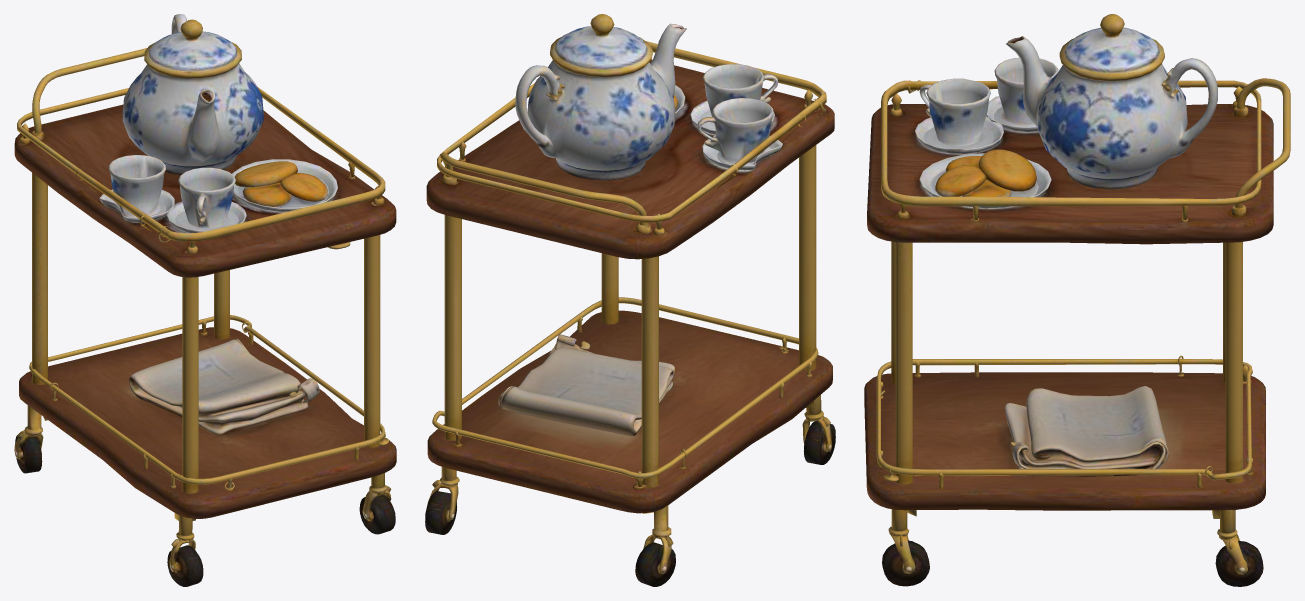
The model's file is trolley.glb.
The picture shows the model from 3 angles, left to right: view 1: azimuth 30°, elevation 25°; view 2: azimuth 150°, elevation 25°; view 3: azimuth 270°, elevation 25°; orthographic projection. The views are drawn at different scales.
Parts seen in each view (by area): view 1: tripo_node_a984bce3-706f-455e-8965-71741e2b8324; view 2: tripo_node_a984bce3-706f-455e-8965-71741e2b8324; view 3: tripo_node_a984bce3-706f-455e-8965-71741e2b8324.
Part boxes in pixels (box(x1,y1,x2,y2)): tripo_node_a984bce3-706f-455e-8965-71741e2b8324: box(14, 14, 396, 586); tripo_node_a984bce3-706f-455e-8965-71741e2b8324: box(425, 14, 835, 586); tripo_node_a984bce3-706f-455e-8965-71741e2b8324: box(864, 14, 1290, 586).
Bounding box in the file's own units: 0.5249 × 0.9995 × 0.7466.
1 material, 1 textured.
